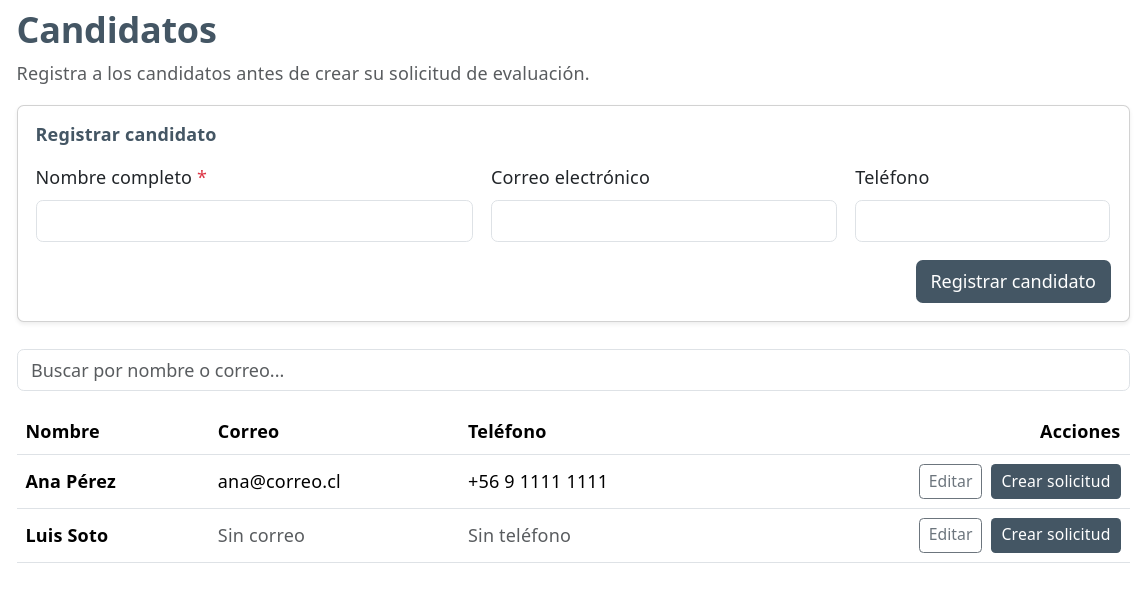
Test: Candidatos › exige el nombre al registrar
Expected: the text "Ana Pérez" is shown, x1=16 y1=455 x2=209 y2=508
What coordinates should you click on to do the following:
click the button "Registrar candidato"
I would click on:
 (1013, 282)
Its box is x1=916 y1=260 x2=1110 y2=303.
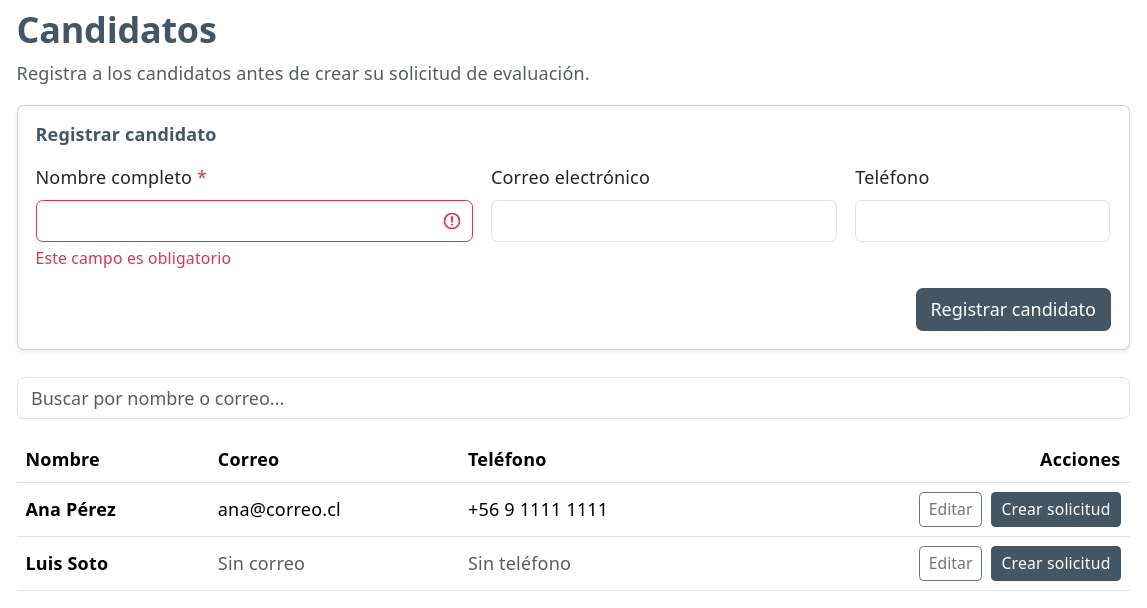
Expected: the text "Este campo es obligatorio" is shown, x1=36 y1=247 x2=231 y2=269
